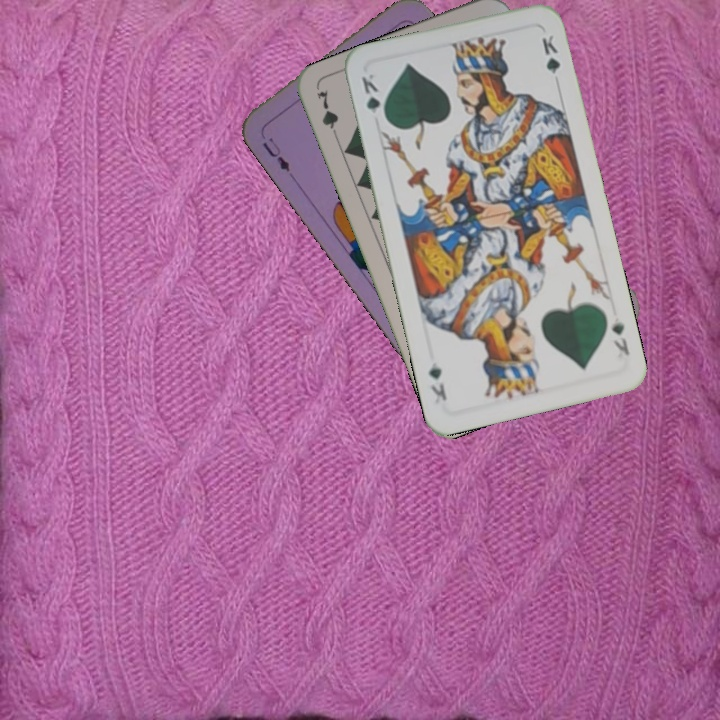EU: (258, 133, 293, 175)
G7: (312, 86, 342, 144)
GK: (357, 69, 389, 125), (607, 318, 632, 359)
